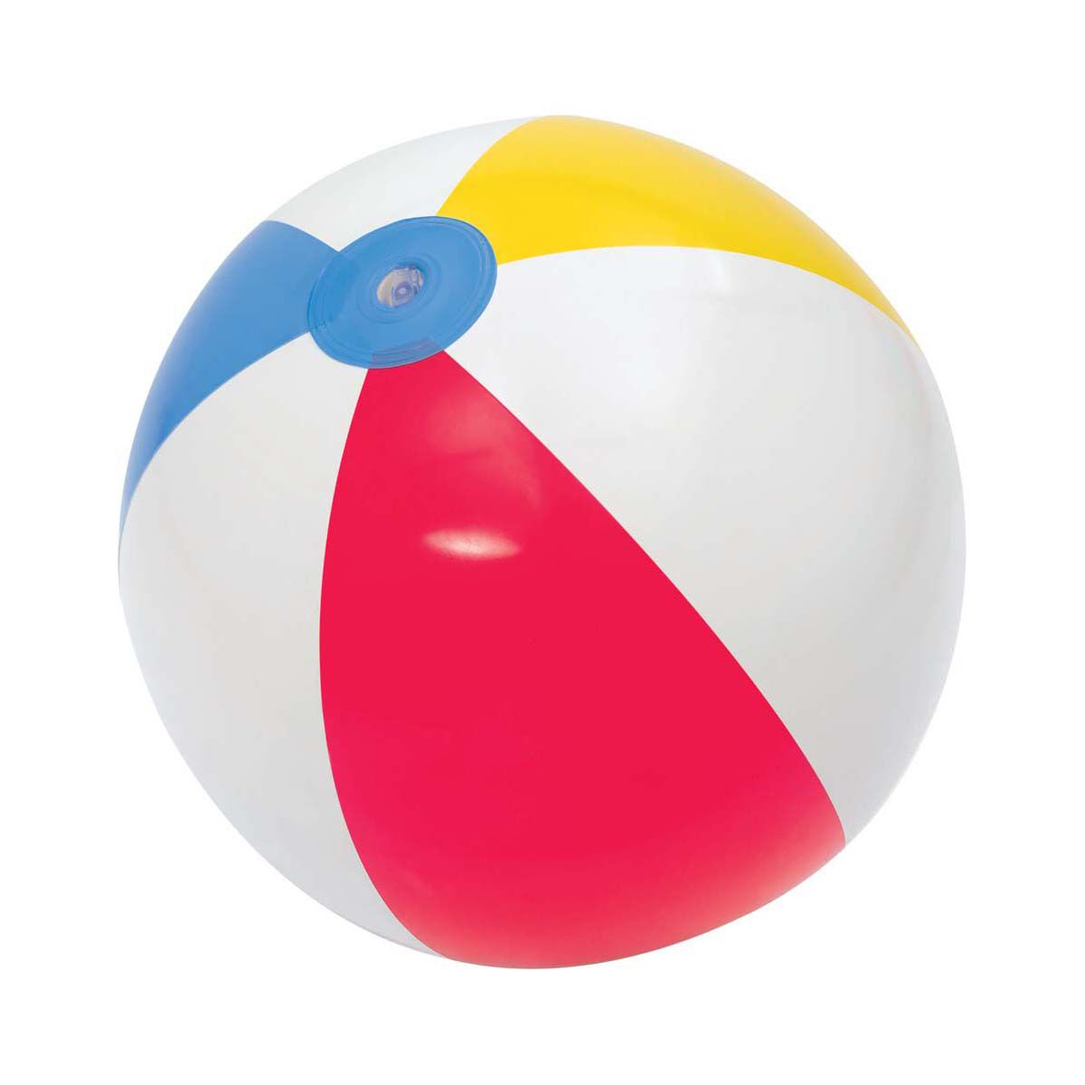sphere: (116, 116, 965, 970)
